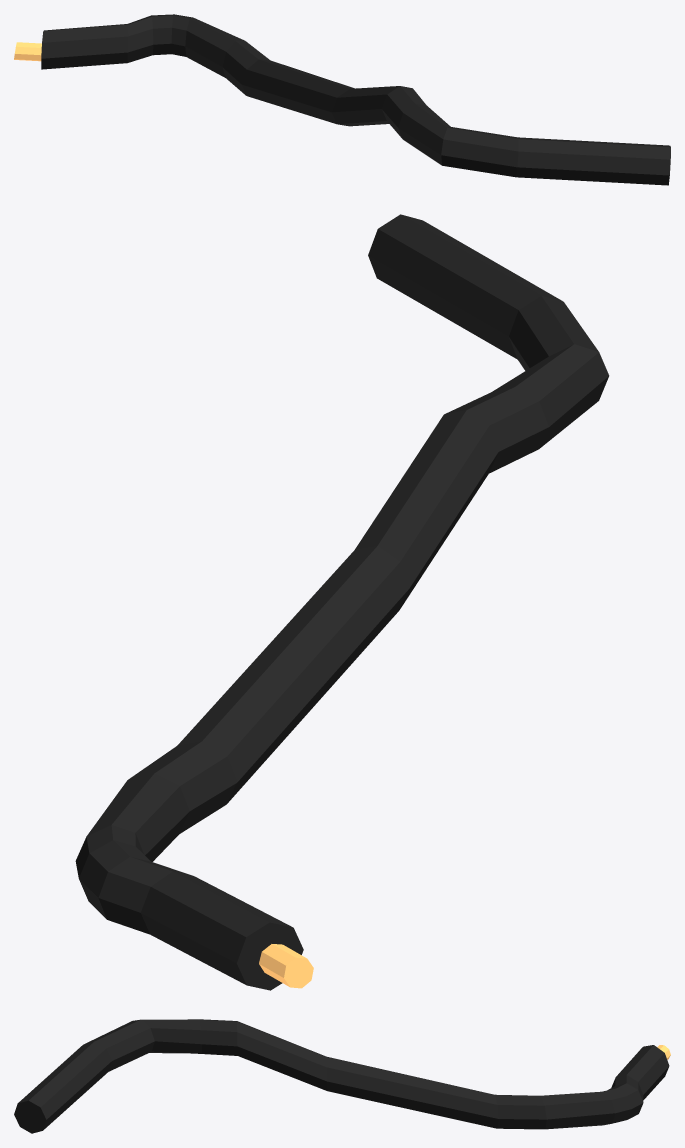
File: waterpuddle_cable.fbx
3 views of the same model, one above another, from view 1: azimuth 30°, elevation 25°; view 2: azimuth 150°, elevation 25°; view 3: azimuth 270°, elevation 25° (orthographic). The views are drawn at different scales.
Parts seen in each view (by area): view 1: Cylinder.001; view 2: Cylinder.001; view 3: Cylinder.001.
Boxes of the visible parts, x1,y1,x2,y2 form: Cylinder.001: (14, 14, 670, 185); Cylinder.001: (75, 214, 609, 990); Cylinder.001: (14, 1019, 670, 1133).
Bounding box in the file's own units: 207 × 78.52 × 423.
